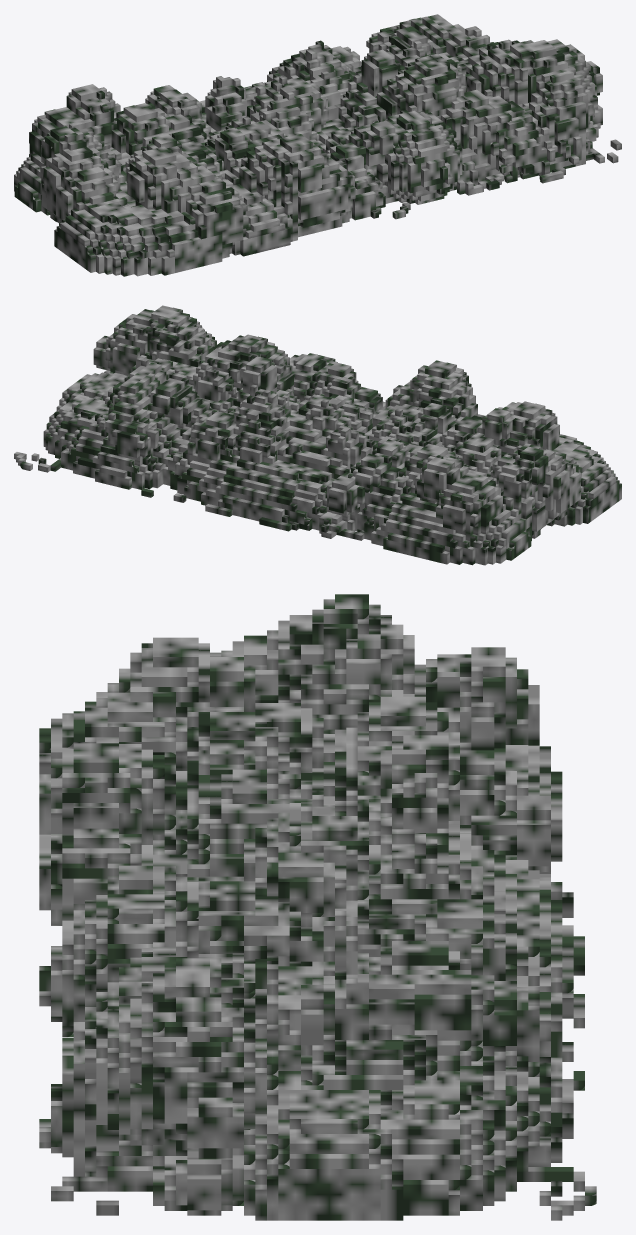
File: ruina_1.dae
3 views of the same model, one above another, from view 1: azimuth 30°, elevation 25°; view 2: azimuth 150°, elevation 25°; view 3: azimuth 270°, elevation 25° (orthographic). The views are drawn at different scales.
Visible parts, largest first — view 1: Content; view 2: Content; view 3: Content.
Part boxes in pixels (x1=…): Content: x1=14, y1=14, x2=621, y2=276; Content: x1=14, y1=305, x2=621, y2=565; Content: x1=39, y1=594, x2=596, y2=1220.
Bounding box in the file's own units: 101 × 18 × 49.
1 material, 1 textured.
